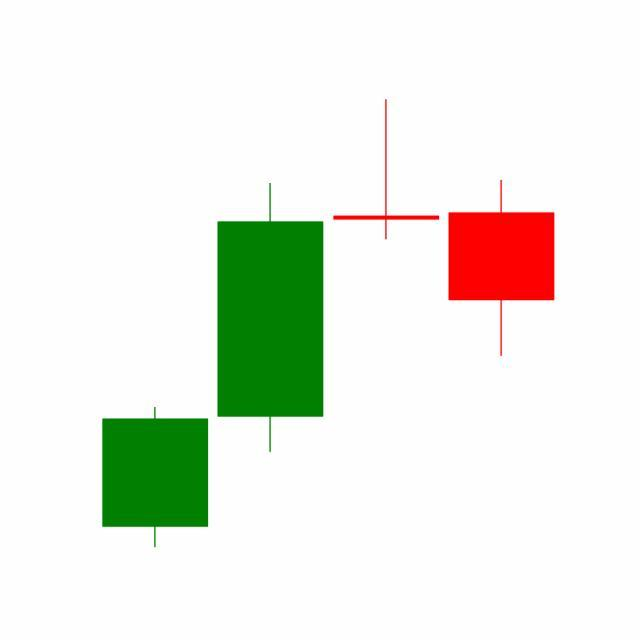Evening Doji Star: (211, 99, 555, 457)
